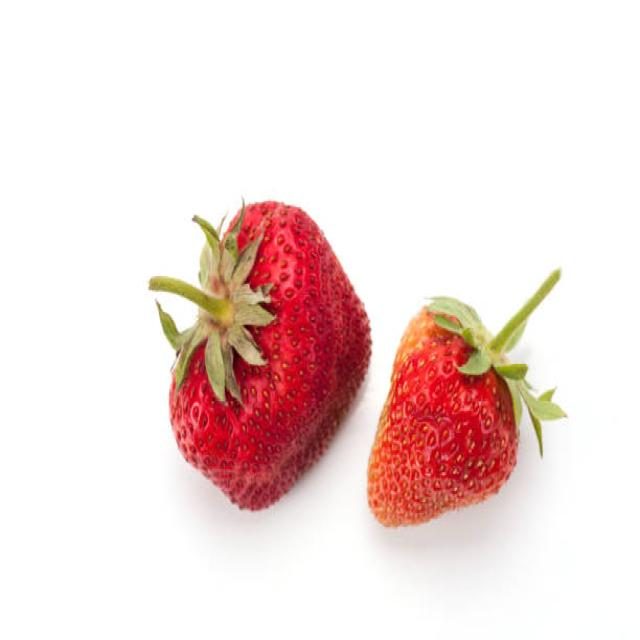Healthy Fruit: (168, 201, 374, 512), (367, 301, 517, 528)
